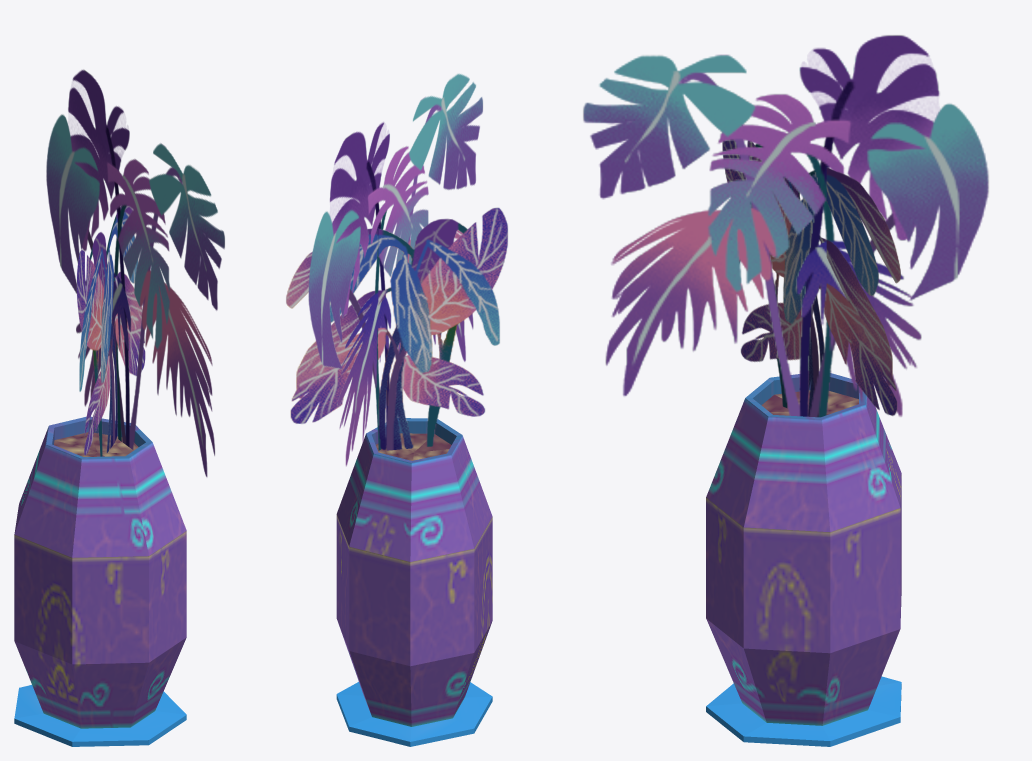
The model's file is Pot_Retro_03.glb.
3 renders of one model, left to right at view 1: azimuth 30°, elevation 25°; view 2: azimuth 150°, elevation 25°; view 3: azimuth 270°, elevation 25°, orthographic. The views are drawn at different scales.
Parts seen in each view (by area): view 1: Pot_Retro_03; view 2: Pot_Retro_03; view 3: Pot_Retro_03.
Boxes of the visible parts, x1,y1,x2,y2 form: Pot_Retro_03: (14,69,224,746); Pot_Retro_03: (286,73,508,746); Pot_Retro_03: (583,35,988,746).
Bounding box in the file's own units: 1.37 × 4.43 × 2.55.
2 materials, 2 textured.
